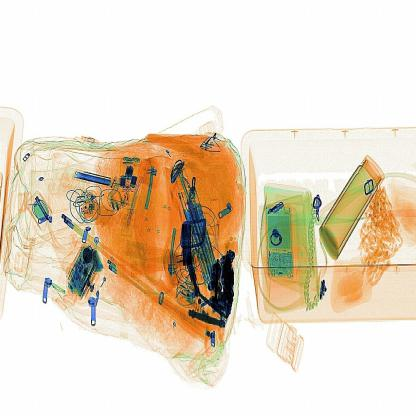scissors: (174, 213, 205, 275)
